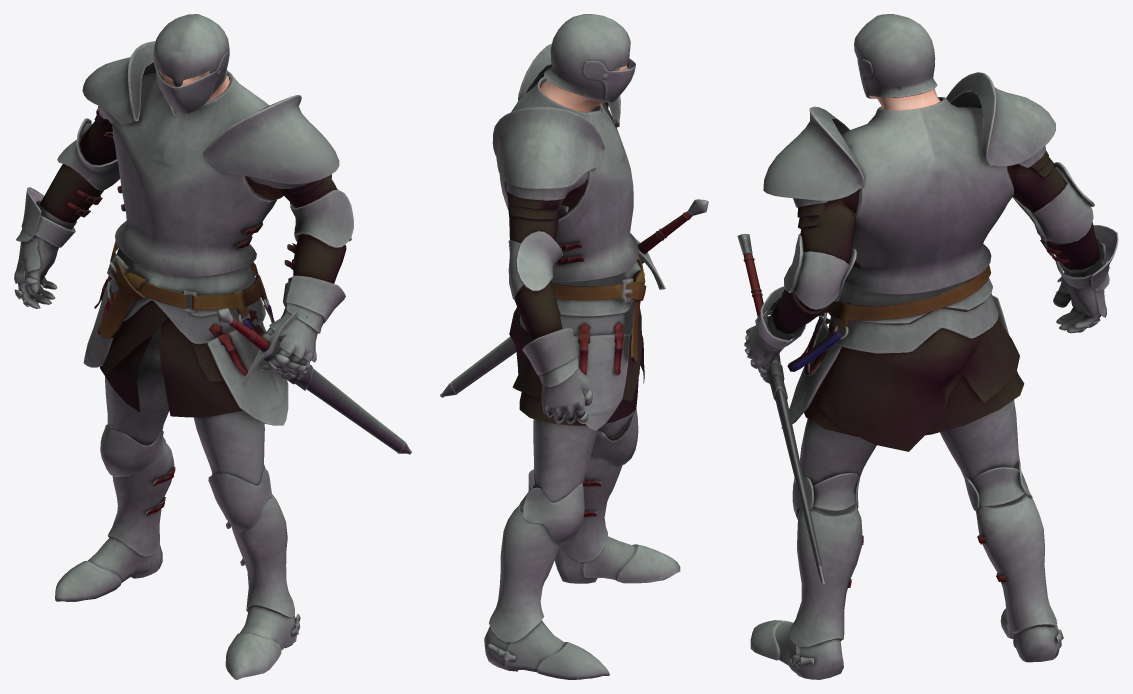
Rendered from Wizard.glb.
3 renders of one model, left to right at view 1: azimuth 30°, elevation 25°; view 2: azimuth 150°, elevation 25°; view 3: azimuth 270°, elevation 25°, orthographic. The views are drawn at different scales.
Visible parts, largest first — view 1: Warrior_07_low, Warrior_20_low, Warrior_08_low, Warrior_23_low, Warrior_12_low, Warrior_03_low, Warrior_24_low, Warrior_21_low, Warrior_01_low, Warrior_10_low, Warrior_25_low, Warrior_02_low (+11 smaller); view 2: Warrior_20_low, Warrior_07_low, Warrior_08_low, Warrior_23_low, Warrior_02_low, Warrior_12_low, Warrior_21_low, Warrior_24_low, Warrior_01_low, Warrior_27_low, Warrior_04_low, Warrior_25_low (+12 smaller); view 3: Warrior_07_low, Warrior_20_low, Warrior_04_low, Warrior_08_low, Warrior_12_low, Warrior_01_low, Warrior_02_low, Warrior_23_low, Warrior_11_low, Warrior_27_low, Warrior_03_low, Warrior_22_low (+9 smaller).
Boxes of the visible parts, x1,y1,x2,y2 form: Warrior_07_low: [112, 71, 277, 276]; Warrior_20_low: [105, 326, 294, 617]; Warrior_08_low: [82, 41, 339, 184]; Warrior_23_low: [55, 537, 296, 679]; Warrior_12_low: [39, 72, 346, 283]; Warrior_03_low: [100, 317, 242, 417]; Warrior_24_low: [83, 279, 288, 425]; Warrior_21_low: [100, 424, 271, 532]; Warrior_01_low: [109, 248, 265, 344]; Warrior_10_low: [57, 118, 353, 247]; Warrior_25_low: [98, 241, 266, 338]; Warrior_02_low: [153, 14, 229, 95]; Warrior_20_low: [489, 411, 634, 642]; Warrior_07_low: [499, 76, 638, 282]; Warrior_08_low: [492, 43, 620, 188]; Warrior_23_low: [484, 536, 680, 679]; Warrior_02_low: [544, 14, 630, 100]; Warrior_12_low: [505, 179, 587, 341]; Warrior_21_low: [523, 409, 638, 544]; Warrior_24_low: [573, 334, 629, 430]; Warrior_01_low: [519, 261, 640, 336]; Warrior_27_low: [440, 199, 708, 397]; Warrior_04_low: [509, 307, 641, 400]; Warrior_25_low: [552, 257, 646, 362]; Warrior_07_low: [841, 97, 1014, 294]; Warrior_20_low: [789, 400, 1057, 647]; Warrior_04_low: [816, 317, 1019, 451]; Warrior_08_low: [763, 72, 1055, 201]; Warrior_12_low: [772, 150, 1099, 333]; Warrior_01_low: [828, 278, 998, 353]; Warrior_02_low: [854, 14, 937, 97]; Warrior_23_low: [750, 608, 1061, 679]; Warrior_11_low: [794, 181, 1093, 309]; Warrior_27_low: [737, 233, 824, 585]; Warrior_03_low: [804, 371, 1024, 436]; Warrior_22_low: [813, 467, 1025, 511].
Size of the model in its own units: 0.2738 by 0.5873 by 0.3198.
1 material, 1 textured.
